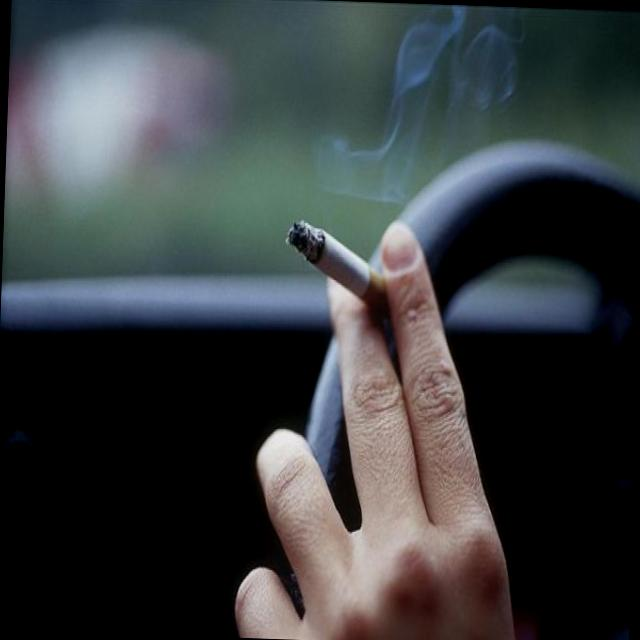smoke: (278, 213, 417, 319)
